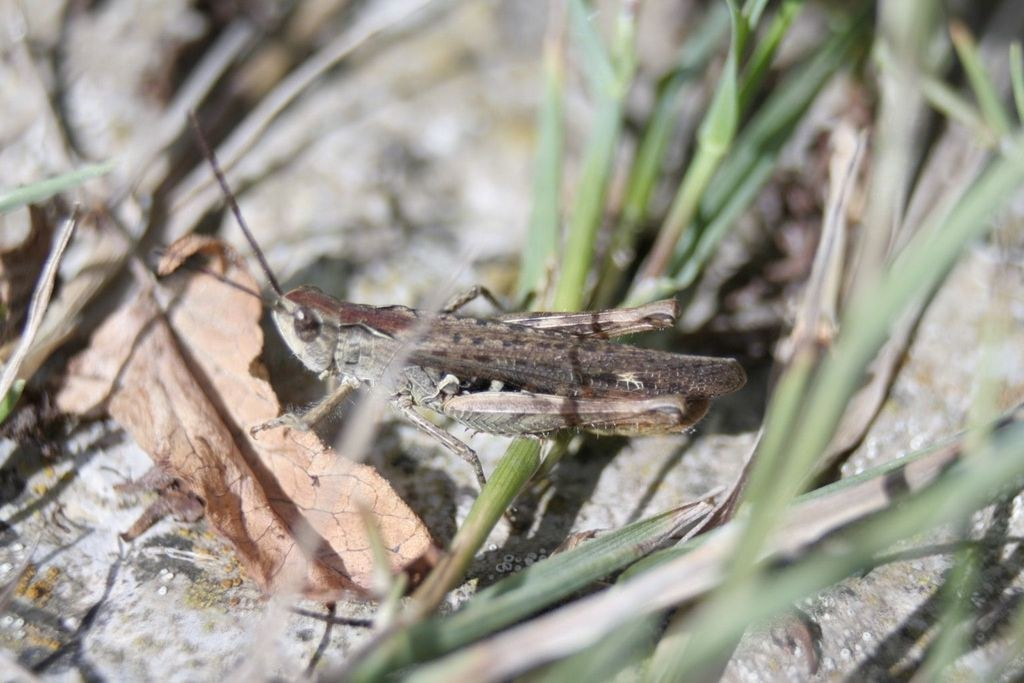insect: (0, 0, 1023, 682), (161, 113, 741, 493)
